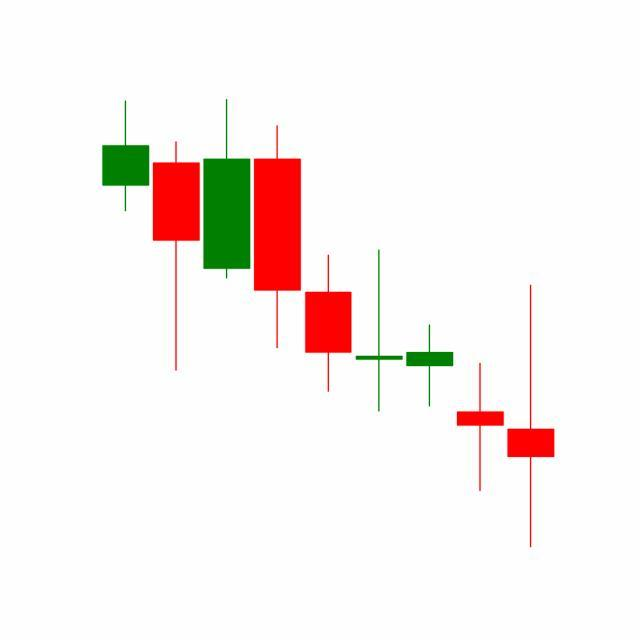Hikkake Pattern: (252, 121, 506, 496)
